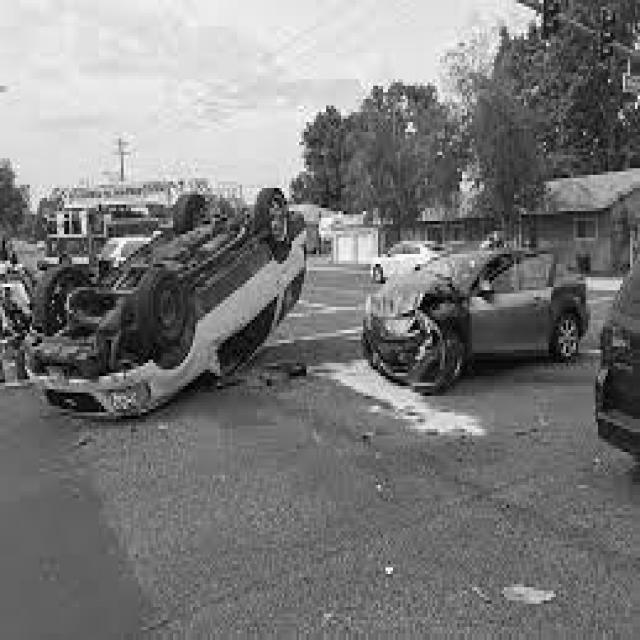accident: (22, 185, 309, 426), (362, 242, 588, 393)
vehicle: (594, 244, 640, 462), (371, 242, 445, 284)
